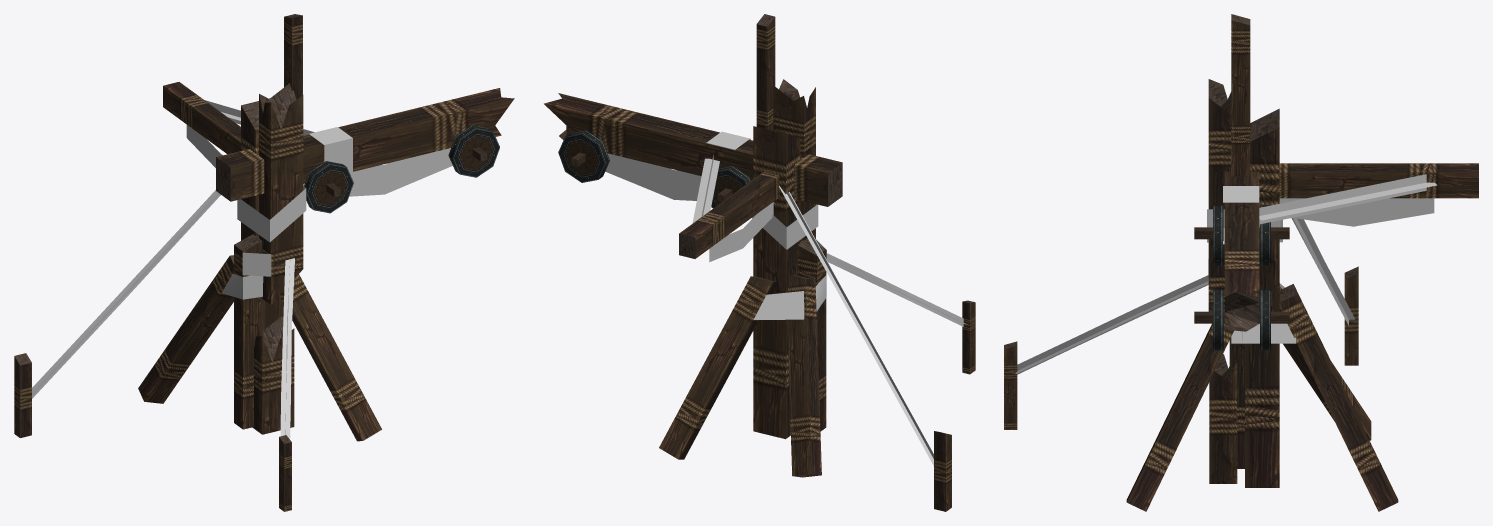
The model's file is A_mutou_015.fbx.
3 renders of one model, left to right at view 1: azimuth 30°, elevation 25°; view 2: azimuth 150°, elevation 25°; view 3: azimuth 270°, elevation 25°, orthographic. The views are drawn at different scales.
Visible parts, largest first — view 1: pasted__A_mutou_015; view 2: pasted__A_mutou_015; view 3: pasted__A_mutou_015.
Boxes of the visible parts, box(x1,y1,x2,y2) form: pasted__A_mutou_015: box(14, 14, 514, 511); pasted__A_mutou_015: box(544, 14, 975, 511); pasted__A_mutou_015: box(1004, 14, 1478, 511).
Bounding box in the file's own units: 661 × 575 × 517.
